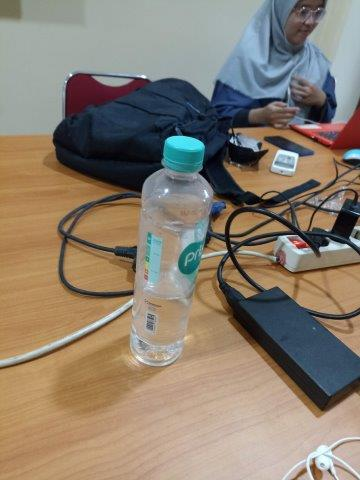botolplastik: (130, 136, 213, 367)
